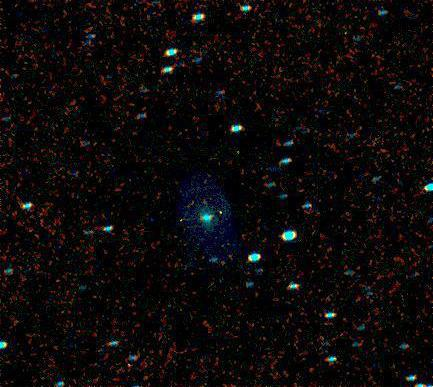star: (201, 195, 231, 225)
